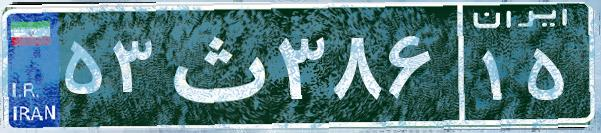1: (475, 38, 525, 113)
3: (273, 28, 330, 110), (110, 28, 158, 105)
5: (57, 26, 110, 107), (525, 38, 570, 115)
6: (385, 28, 445, 110)
8: (330, 28, 385, 110)
ث: (158, 15, 273, 115)
